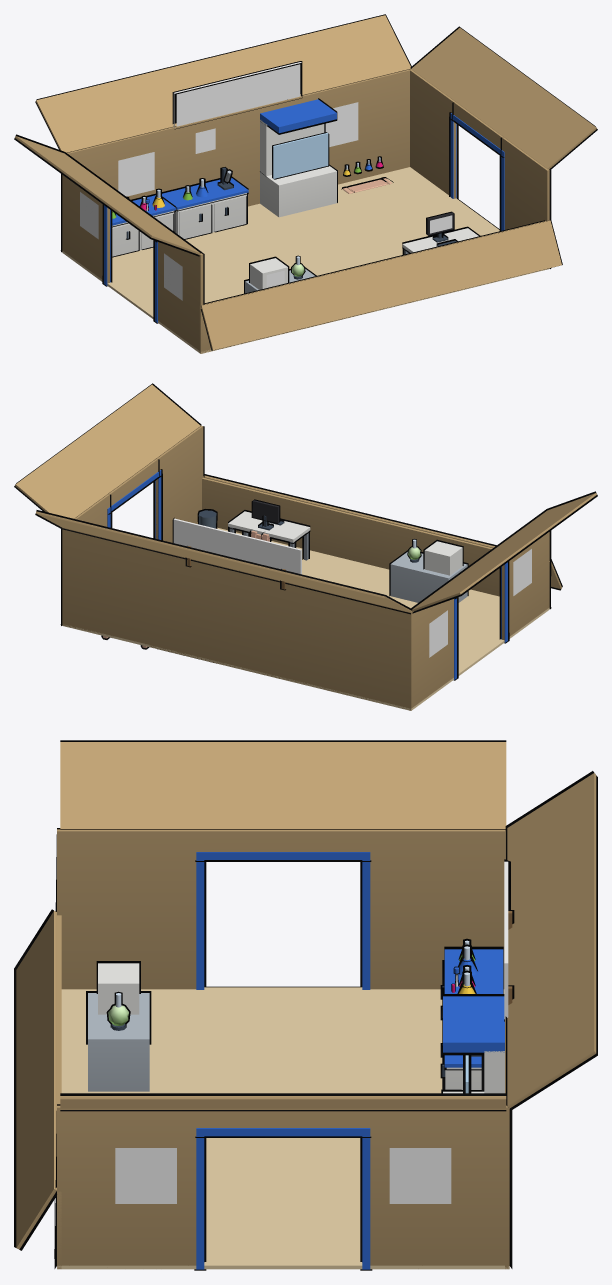
Rendered from BR_Box_Labor.glb.
The picture shows the model from 3 angles, top to bottom: view 1: azimuth 30°, elevation 25°; view 2: azimuth 150°, elevation 25°; view 3: azimuth 270°, elevation 25°; orthographic projection. The views are drawn at different scales.
Visible parts, largest first — view 1: BR_Box_Labor_Mesh, BR_Box_Labor_Outline; view 2: BR_Box_Labor_Mesh, BR_Box_Labor_Outline; view 3: BR_Box_Labor_Mesh, BR_Box_Labor_Outline.
Boxes of the visible parts, x1=… form: BR_Box_Labor_Mesh: x1=15, y1=15, x2=596, y2=353; BR_Box_Labor_Outline: x1=14, y1=14, x2=597, y2=350; BR_Box_Labor_Mesh: x1=15, y1=384, x2=596, y2=710; BR_Box_Labor_Outline: x1=14, y1=383, x2=597, y2=680; BR_Box_Labor_Mesh: x1=16, y1=742, x2=596, y2=1269; BR_Box_Labor_Outline: x1=14, y1=740, x2=597, y2=1270.
Bounding box in the file's own units: 12.31 × 3.84 × 8.52.
